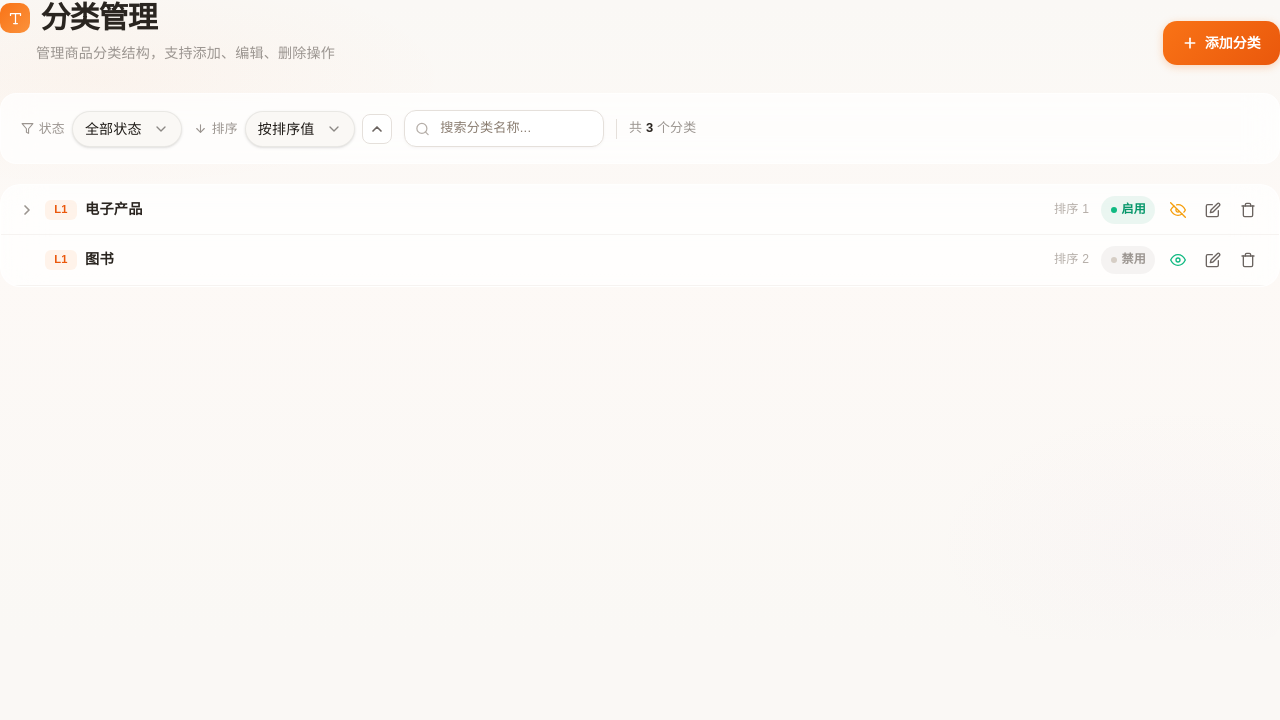
CategoryManagePage › opens edit modal when edit button is clicked
This screenshot has width=1280, height=720.
# Click edit button on first category
Click the button titled "编辑" next to "启用" at (1213, 210), box [1198,195,1228,225]
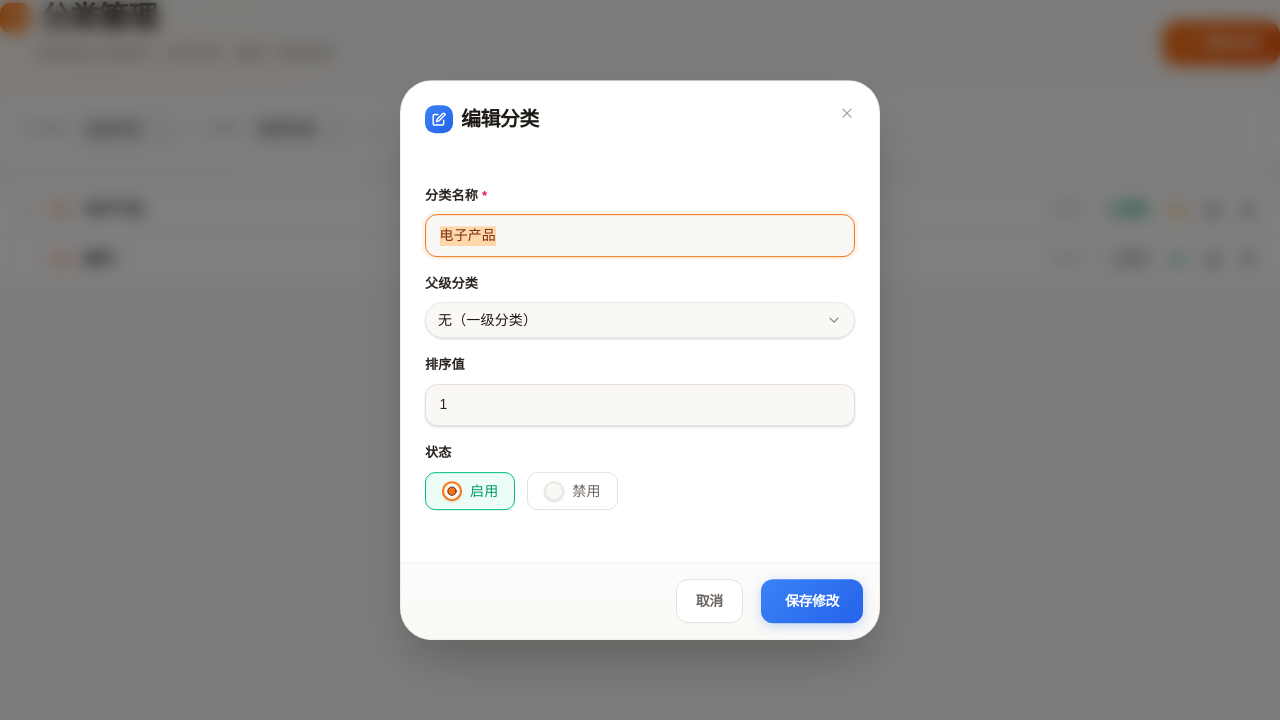
Expected: the heading "编辑分类" is shown, [425,105,539,133]
Expected: the field showing "电子产品" is shown, [425,214,855,257]
Expected: the button "保存修改" is shown, [761,579,863,623]
